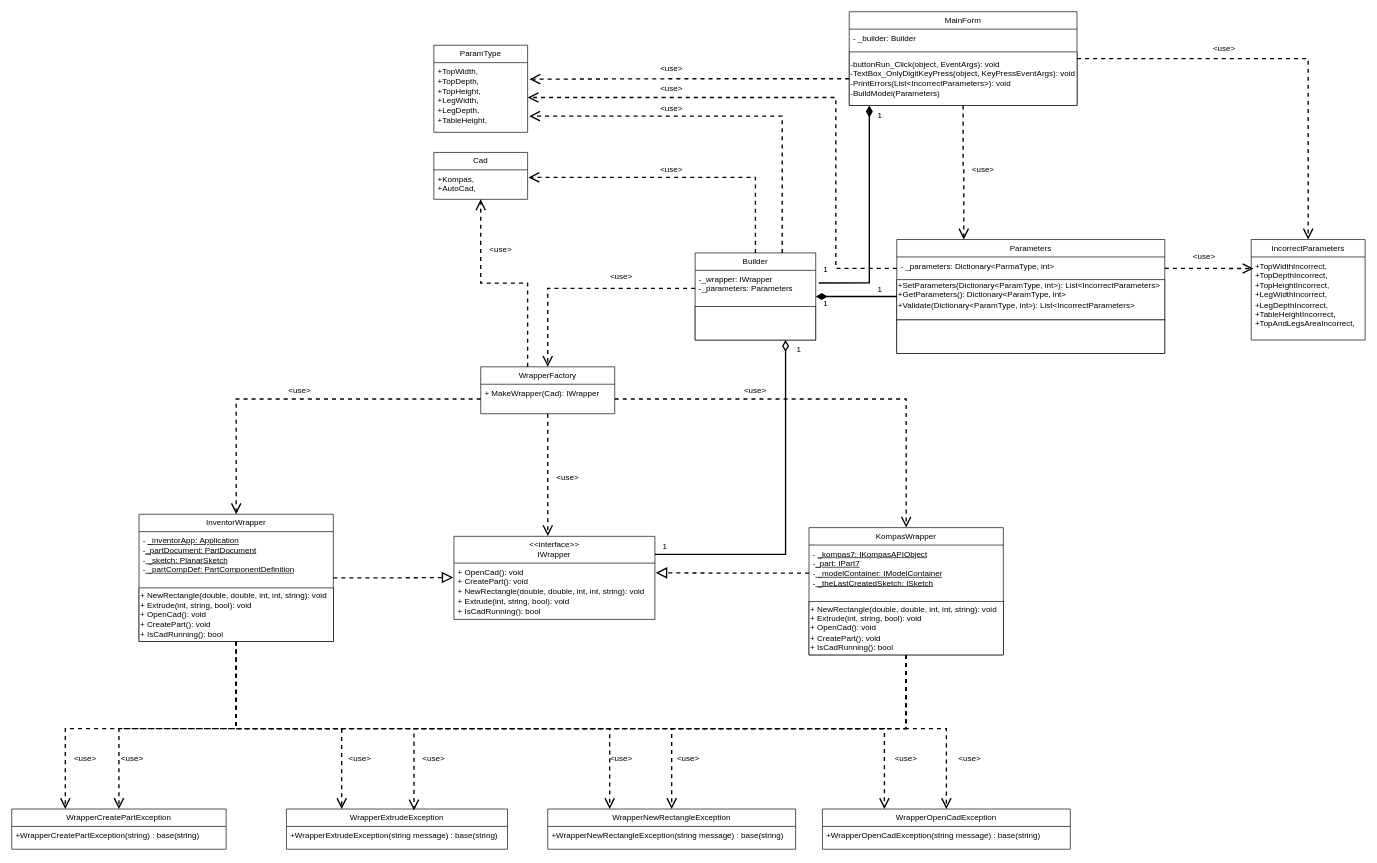
Some shapes in this 1377 by 863 pixel diagram are drawn without their labels. Here are the shapes that lost their labels. From the top down, the centre of each, then its label:
At [755,323]: "+Builder(Parameters, Cad) +Build(): void".
At [1030,336]: "<<property>> +Params(): Dictionary<ParamType, int>".
